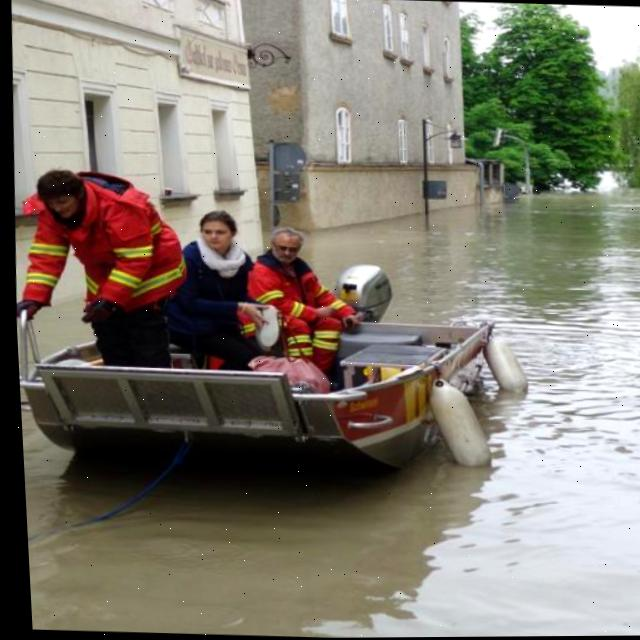civilian: (156, 195, 279, 386)
rescuer: (8, 151, 198, 386), (233, 216, 363, 381)
